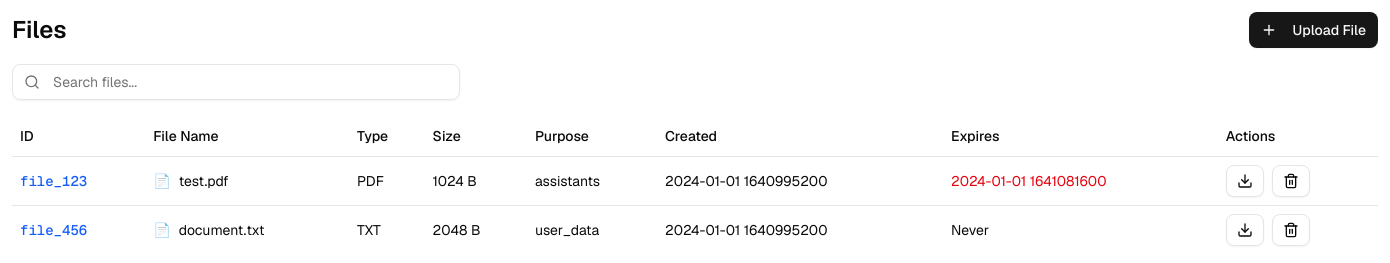
Scenario: FilesManagement › Files List › filters files by search term
In the field with placeholder "Search files...": (236, 82) [12,64,460,100], type "test"
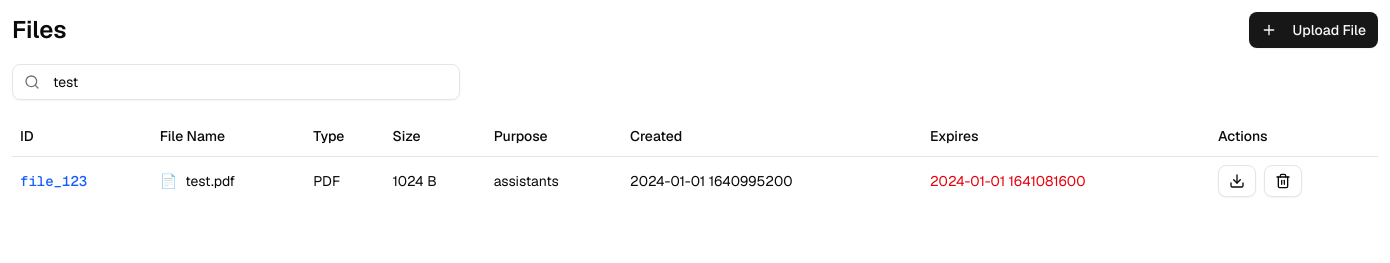
Expected: the text "test.pdf" is shown, [185,170,235,190]
Now the text "document.txt" is gone
